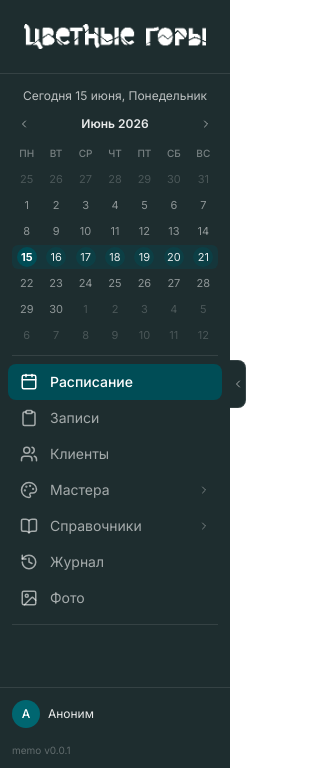
Test: MiniCalendar — URL-driven navigator (#138 T4) › a day click in a locally paged month pushes that day; navigation re-syncs the month
Step 1. Click the button named "Следующий месяц" → [206, 124], box x1=194 y1=112 x2=218 y2=136
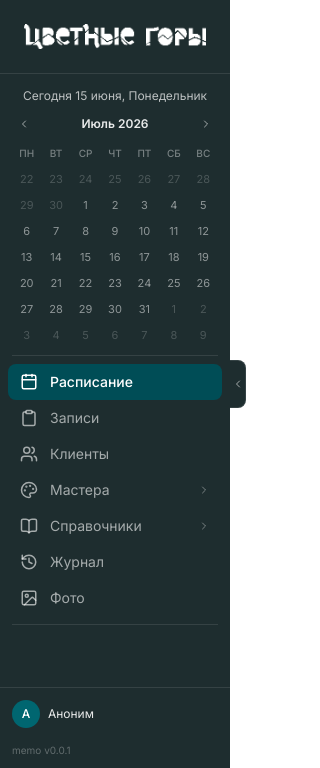
Step 2. Click the button named "15 июля" → [86, 257], box x1=71 y1=247 x2=100 y2=267
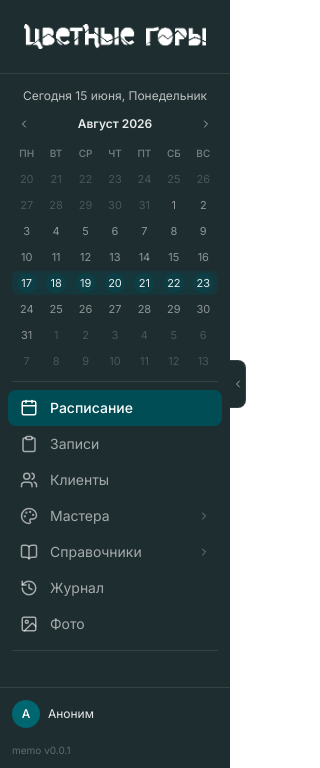
Now the button "Август 2026" is shown, box x1=78 y1=116 x2=152 y2=132
